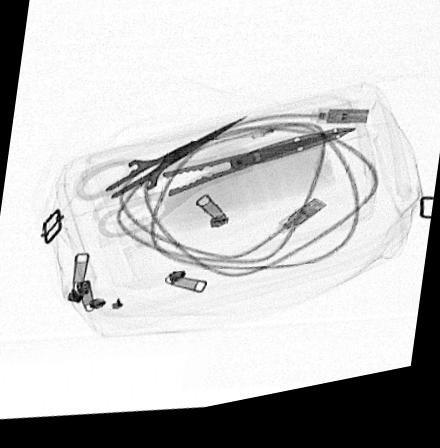Scissors: (72, 138, 362, 245), (71, 122, 254, 231)
